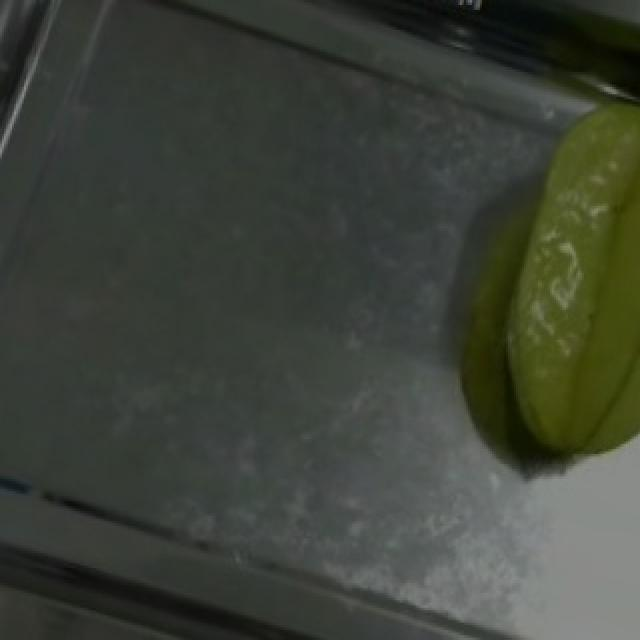fruit: (466, 70, 640, 482)
